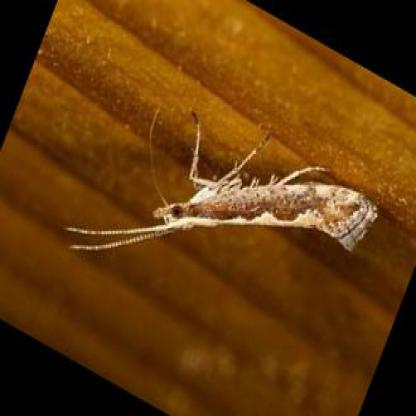plutella: (55, 116, 382, 259)
